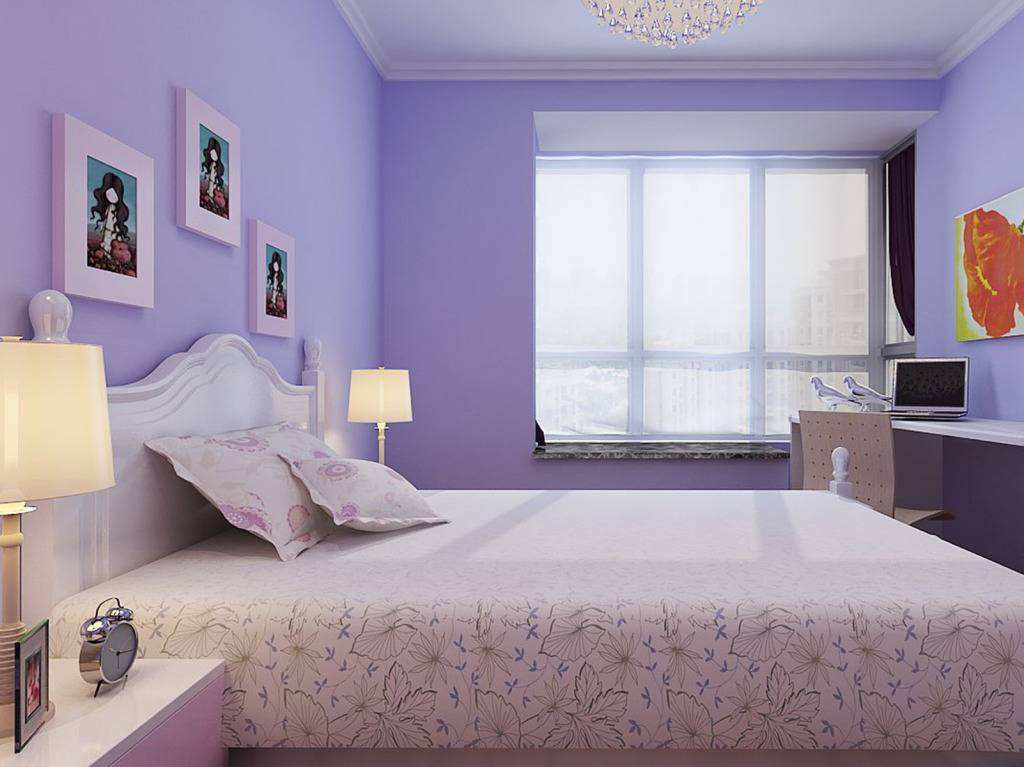床: (42, 481, 1024, 756)
枕头: (157, 426, 442, 556)
灯: (0, 330, 119, 746), (580, 3, 748, 52), (342, 369, 413, 479)
